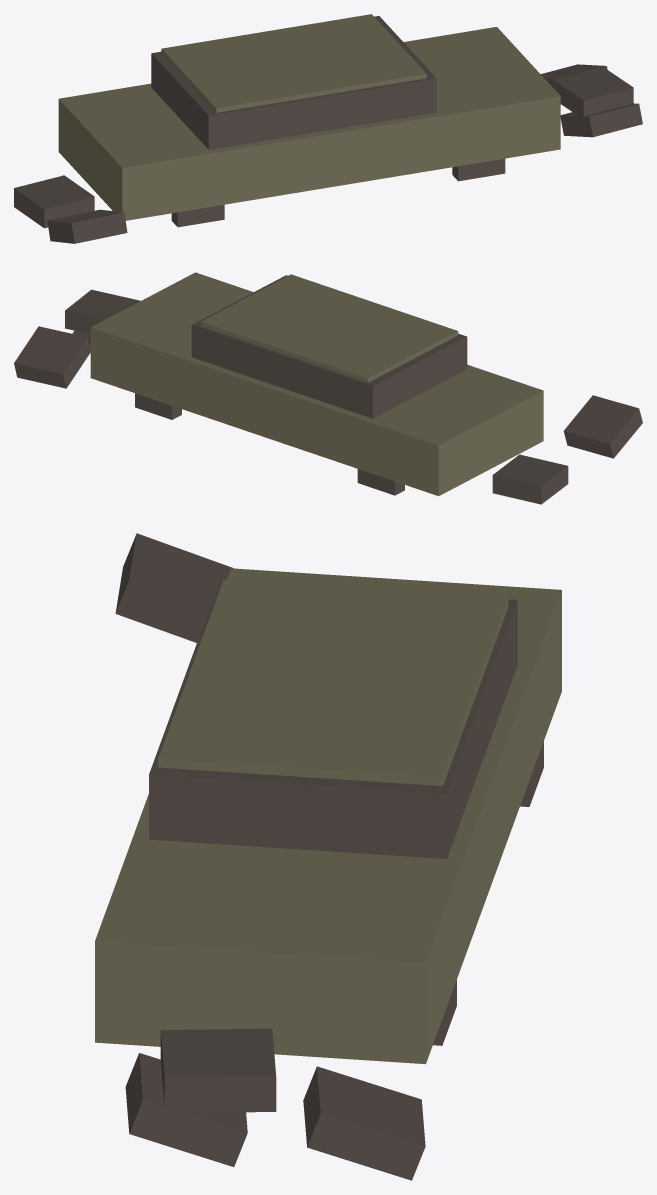
Rendered from SM_BarricadaCivil_v3_Furgoneta_e1_Danado_LOD0.fbx.
3 views of the same model, one above another, from view 1: azimuth 30°, elevation 25°; view 2: azimuth 150°, elevation 25°; view 3: azimuth 270°, elevation 25° (orthographic). The views are drawn at different scales.
Parts seen in each view (by area): view 1: SM_barricada_civil_v13_LOD0; view 2: SM_barricada_civil_v13_LOD0; view 3: SM_barricada_civil_v13_LOD0.
Boxes of the visible parts, x1,y1,x2,y2 form: SM_barricada_civil_v13_LOD0: (14,14,642,243); SM_barricada_civil_v13_LOD0: (14,272,642,504); SM_barricada_civil_v13_LOD0: (95,533,561,1180).
Size of the model in its own units: 8.04 by 1.5 by 2.93.
